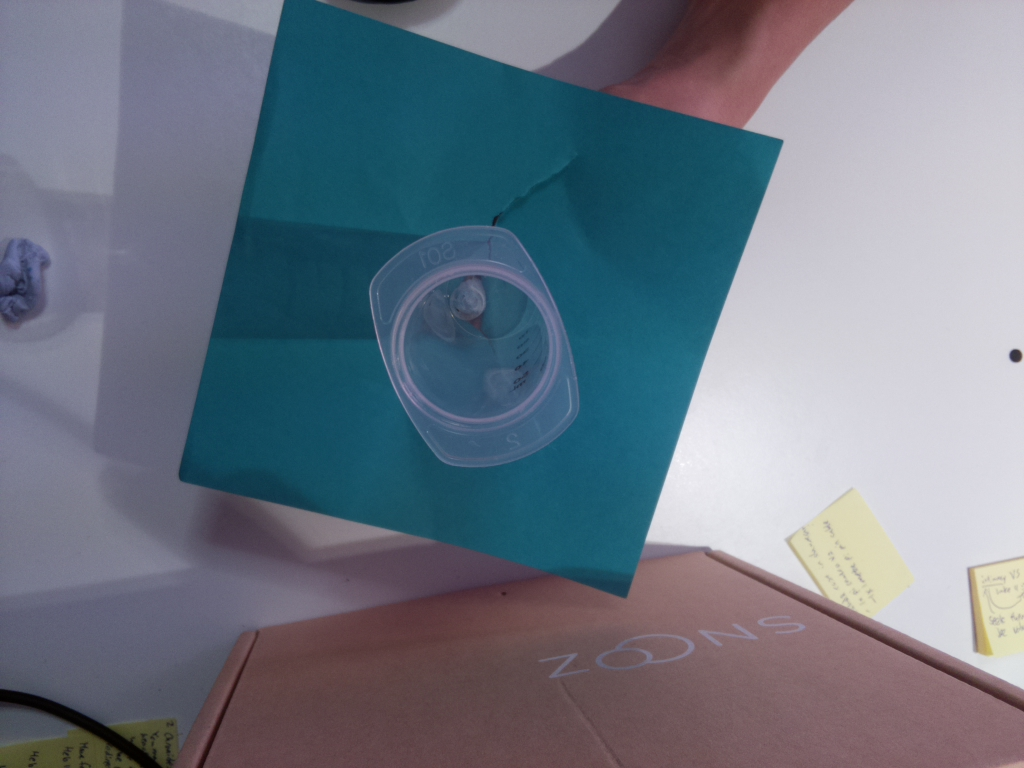clean: (367, 226, 581, 470)
